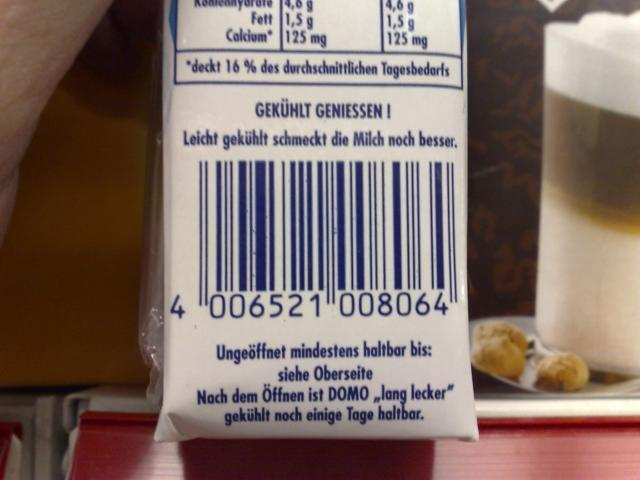Barcode: (169, 154, 464, 327)
